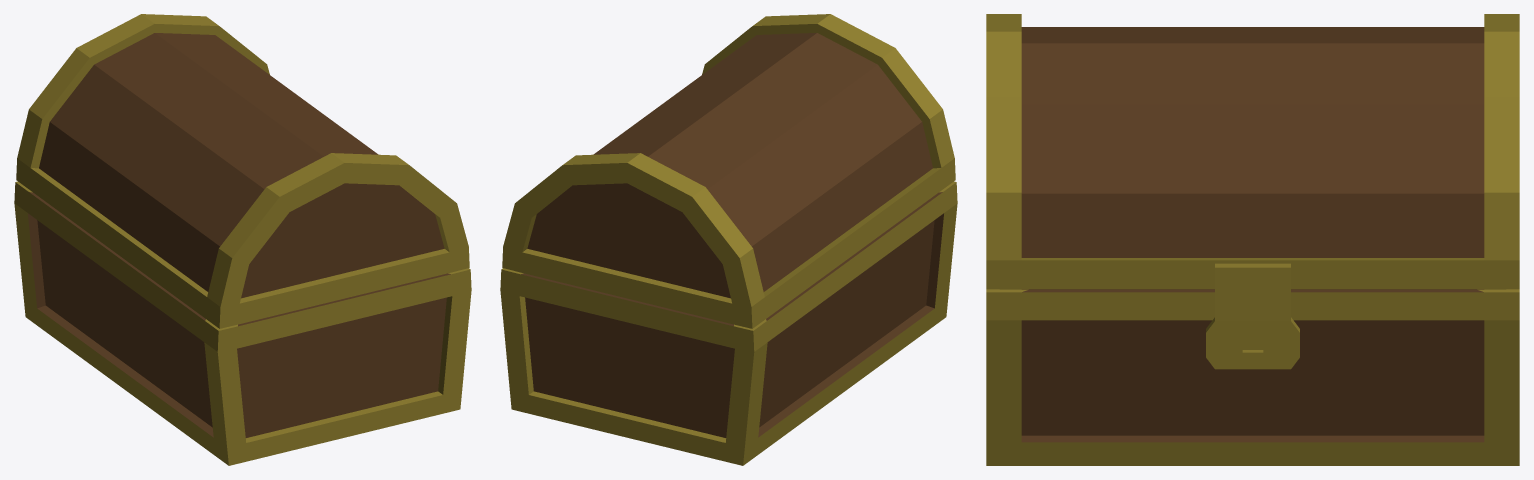
File: chest closed - samuelgragg.fbx
The picture shows the model from 3 angles, left to right: view 1: azimuth 30°, elevation 25°; view 2: azimuth 150°, elevation 25°; view 3: azimuth 270°, elevation 25°; orthographic projection. The views are drawn at different scales.
Parts seen in each view (by area): view 1: Cylinder, Cylinder.002; view 2: Cylinder, Cylinder.002; view 3: Cylinder, Cylinder.002, Cylinder.001.
Boxes of the visible parts, bbox=[...] form: Cylinder: bbox=[16, 14, 469, 328]; Cylinder.002: bbox=[14, 181, 471, 465]; Cylinder: bbox=[502, 14, 955, 328]; Cylinder.002: bbox=[500, 181, 957, 465]; Cylinder: bbox=[986, 14, 1519, 289]; Cylinder.002: bbox=[986, 289, 1519, 465]; Cylinder.001: bbox=[1206, 263, 1299, 369].
Bounding box in the file's own units: 203 × 202 × 271.
